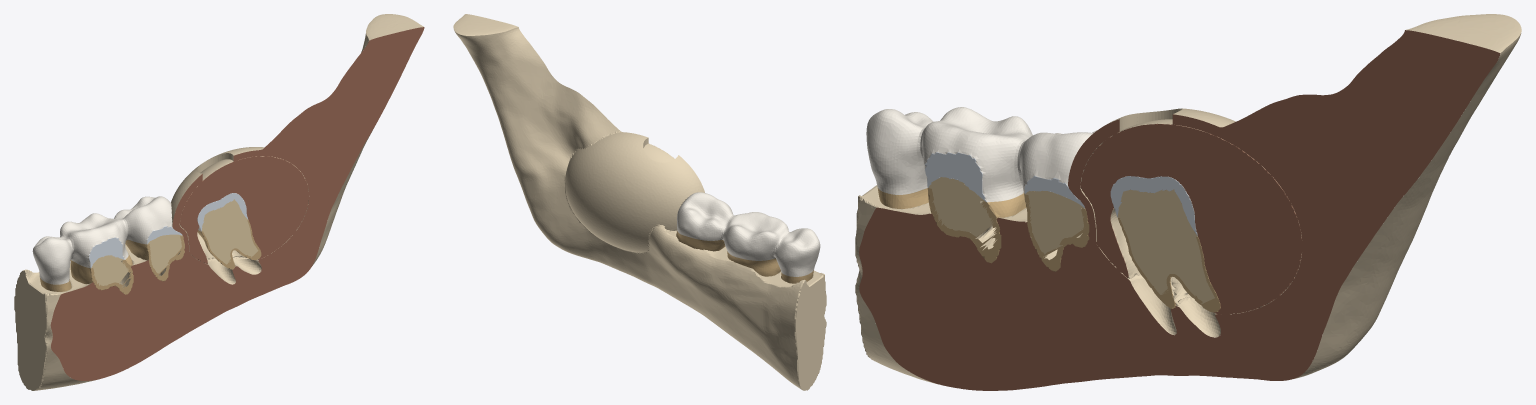
File: marsup-later.glb
3 renders of one model, left to right at view 1: azimuth 30°, elevation 25°; view 2: azimuth 150°, elevation 25°; view 3: azimuth 330°, elevation 25°, orthographic. The views are drawn at different scales.
Parts seen in each view (by area): view 1: bone cut, bone, new bone cut, teeth, third molar cut 4, teeth cut 4, teeth roots, teeth cut 2, teeth cut 3, third molar cut 2, new bone, third molar cut 3; view 2: bone, teeth, teeth roots, new bone; view 3: bone cut, new bone cut, bone, teeth, third molar cut 4, teeth cut 4, teeth cut 2, teeth cut 3, third molar cut 2, teeth roots, new bone, third molar cut 3.
Part boxes in pixels (x1,y1,x2,y2): bone cut: (50,27,424,380); bone: (14,14,423,390); new bone cut: (180,156,308,265); teeth: (32,196,172,284); third molar cut 4: (201,199,258,264); teeth cut 4: (91,234,182,285); teeth roots: (40,239,183,291); teeth cut 2: (89,226,182,267); teeth cut 3: (90,236,184,294); third molar cut 2: (197,193,248,230); new bone: (180,156,308,266); third molar cut 3: (202,220,261,269); bone: (453,14,826,390); teeth: (677,192,820,276); teeth roots: (676,231,813,283); new bone: (643,143,674,162); bone cut: (859,30,1500,390); new bone cut: (1080,124,1302,314); bone: (855,14,1521,384); teeth: (866,107,1096,202); third molar cut 4: (1117,189,1214,303); teeth cut 4: (928,177,1085,254); teeth cut 2: (925,152,1084,208); teeth cut 3: (927,188,1089,271); third molar cut 2: (1110,176,1197,235); teeth roots: (877,188,1085,271); new bone: (1081,119,1301,313); third molar cut 3: (1118,218,1220,312).
Bounding box in the file's own units: 81.87 × 59.05 × 12.43.
